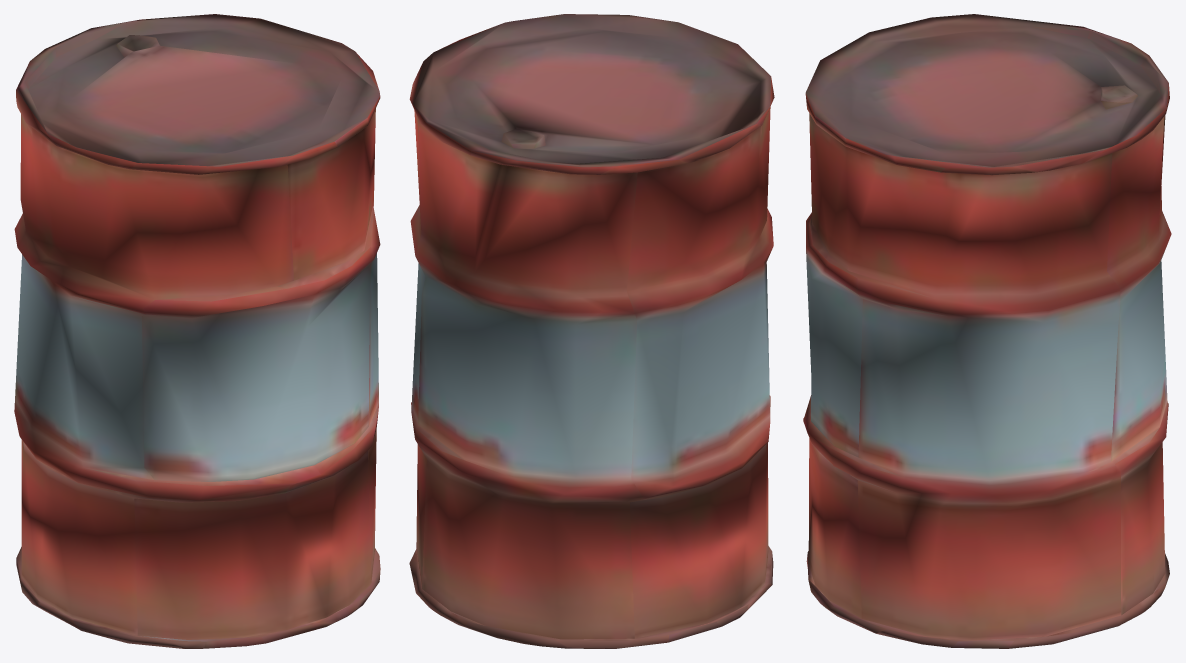
File: prop_barrel.glb
3 renders of one model, left to right at view 1: azimuth 30°, elevation 25°; view 2: azimuth 150°, elevation 25°; view 3: azimuth 270°, elevation 25°, orthographic.
Visible parts, largest first — view 1: node_0; view 2: node_0; view 3: node_0.
Part boxes in pixels (x1,y1,x2,y2): node_0: (14,14,380,648); node_0: (409,14,774,648); node_0: (803,14,1171,648).
Size of the model in its own units: 0.6845 by 0.9914 by 0.6849.
1 material, 1 textured.
